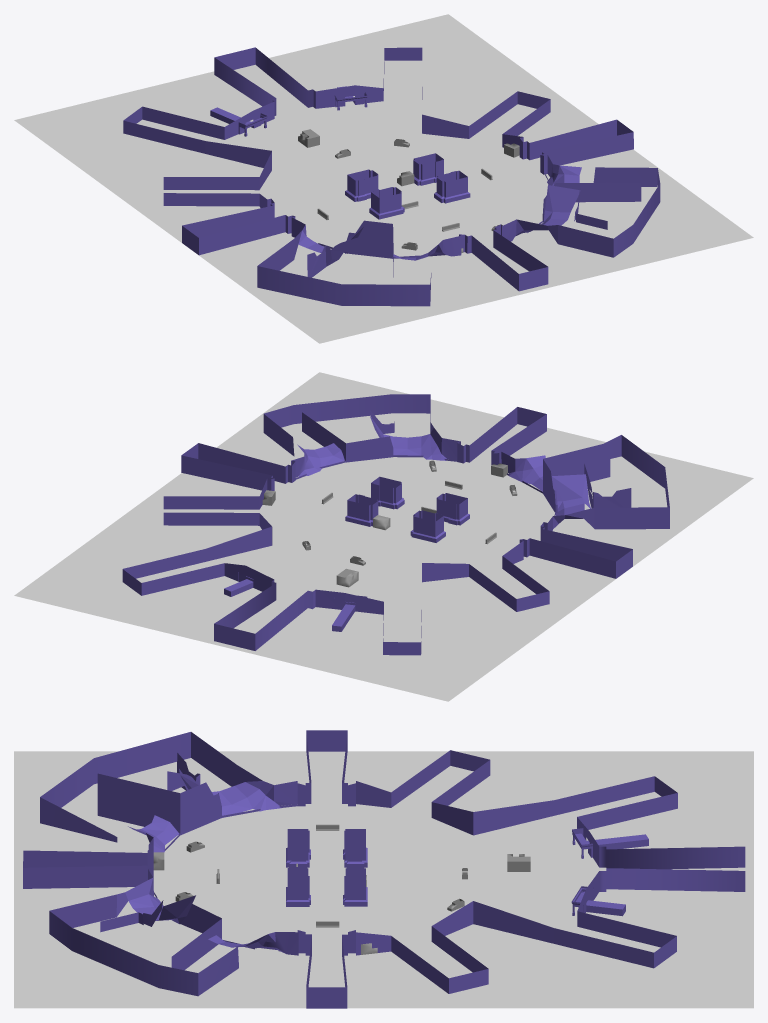
File: France_Col_Hit.FBX
3 renders of one model, top to bottom at view 1: azimuth 30°, elevation 25°; view 2: azimuth 150°, elevation 25°; view 3: azimuth 270°, elevation 25°, orthographic. The views are drawn at different scales.
Parts seen in each view (by area): view 1: Plane01, Col, Sandbag32; view 2: Plane01, Col, Sandbag32; view 3: Plane01, Col, Sandbag32.
Boxes of the visible parts, x1,y1,x2,y2 form: Plane01: (14, 14, 753, 343); Col: (123, 47, 660, 306); Sandbag32: (298, 129, 519, 253); Plane01: (14, 372, 753, 701); Col: (122, 394, 669, 655); Sandbag32: (262, 460, 517, 587); Plane01: (14, 751, 753, 1008); Col: (23, 730, 745, 1008); Sandbag32: (153, 824, 530, 954).
Size of the model in its own units: 261 by 20.38 by 317.
